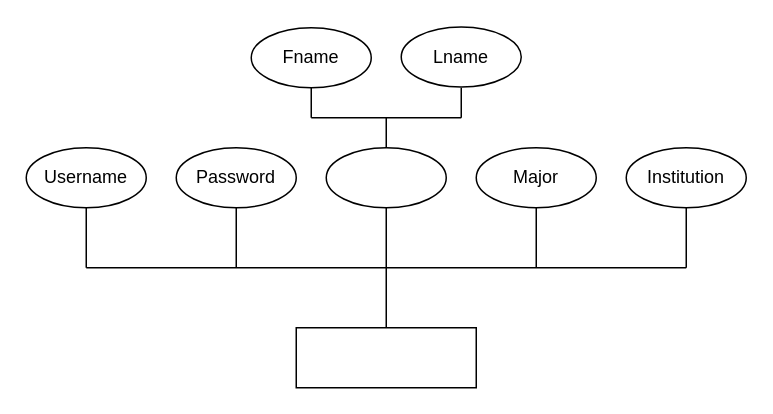
The diagram is 773 pixels wide and 414 high, and some of its shapes have lost their labels. The centre of each missing label's shape, as x and y in pixels:
Name: [385,177]
STUDENT: [385,357]
